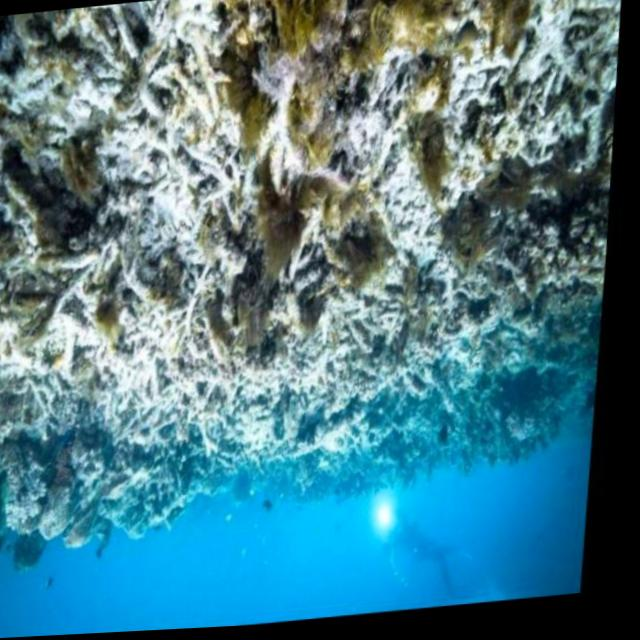Dead Coral: (0, 37, 597, 521)
